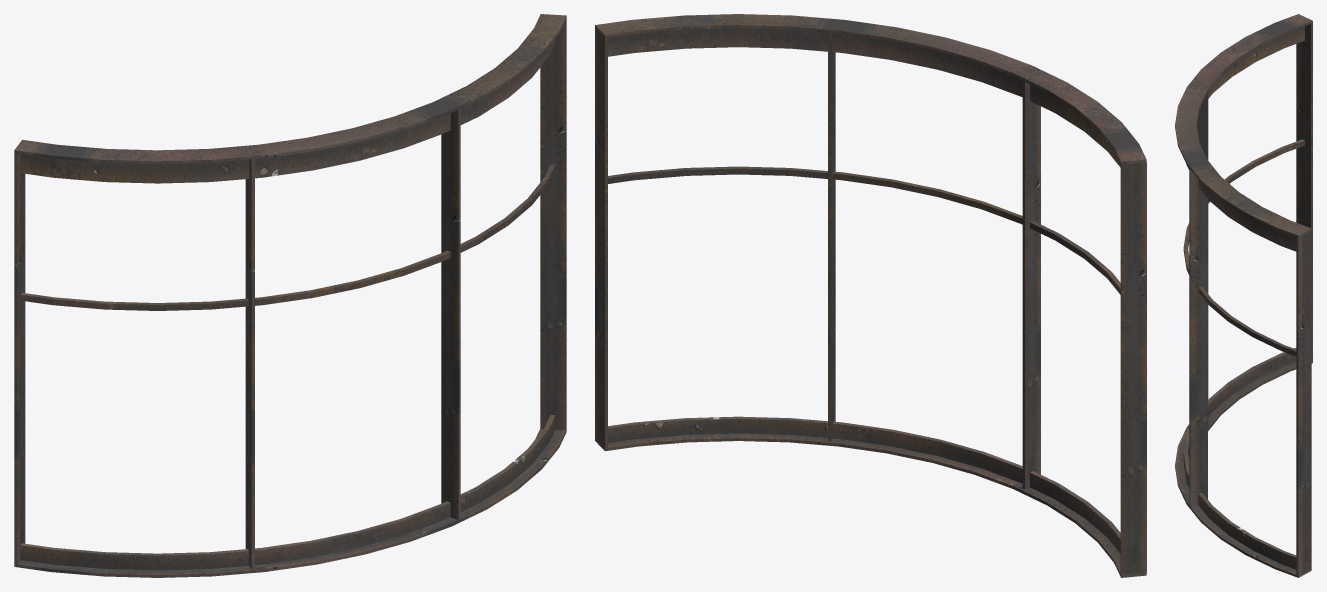
Rendered from elevator_door_top.glb.
3 renders of one model, left to right at view 1: azimuth 30°, elevation 25°; view 2: azimuth 150°, elevation 25°; view 3: azimuth 270°, elevation 25°, orthographic. The views are drawn at different scales.
Visible parts, largest first — view 1: elevator_door_top; view 2: elevator_door_top; view 3: elevator_door_top.
Boxes of the visible parts, <box> form: elevator_door_top: <box>14,14,566,577</box>; elevator_door_top: <box>595,14,1146,577</box>; elevator_door_top: <box>1175,14,1312,577</box>.
Size of the model in its own units: 1.86 by 1.34 by 0.4887.
1 material, 1 textured.
